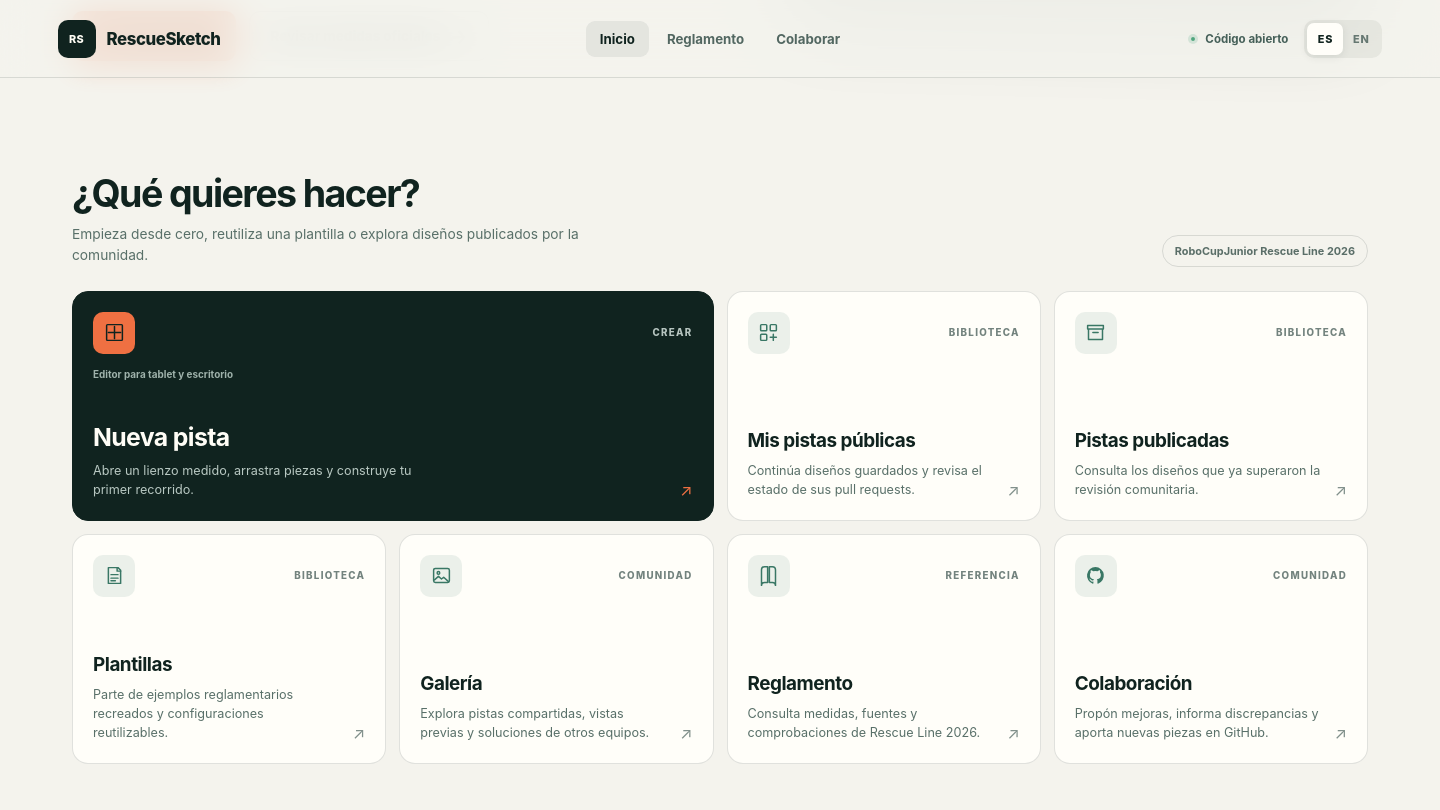
Test case: RescueSketchApp › routes from the Spanish dashboard to a new measured editor
This screenshot has width=1440, height=810.
(page scrolled)
Click the link with aria-label "Abrir Nueva pista": coordinates (114, 333) [72,291,714,521]
(page scrolled)
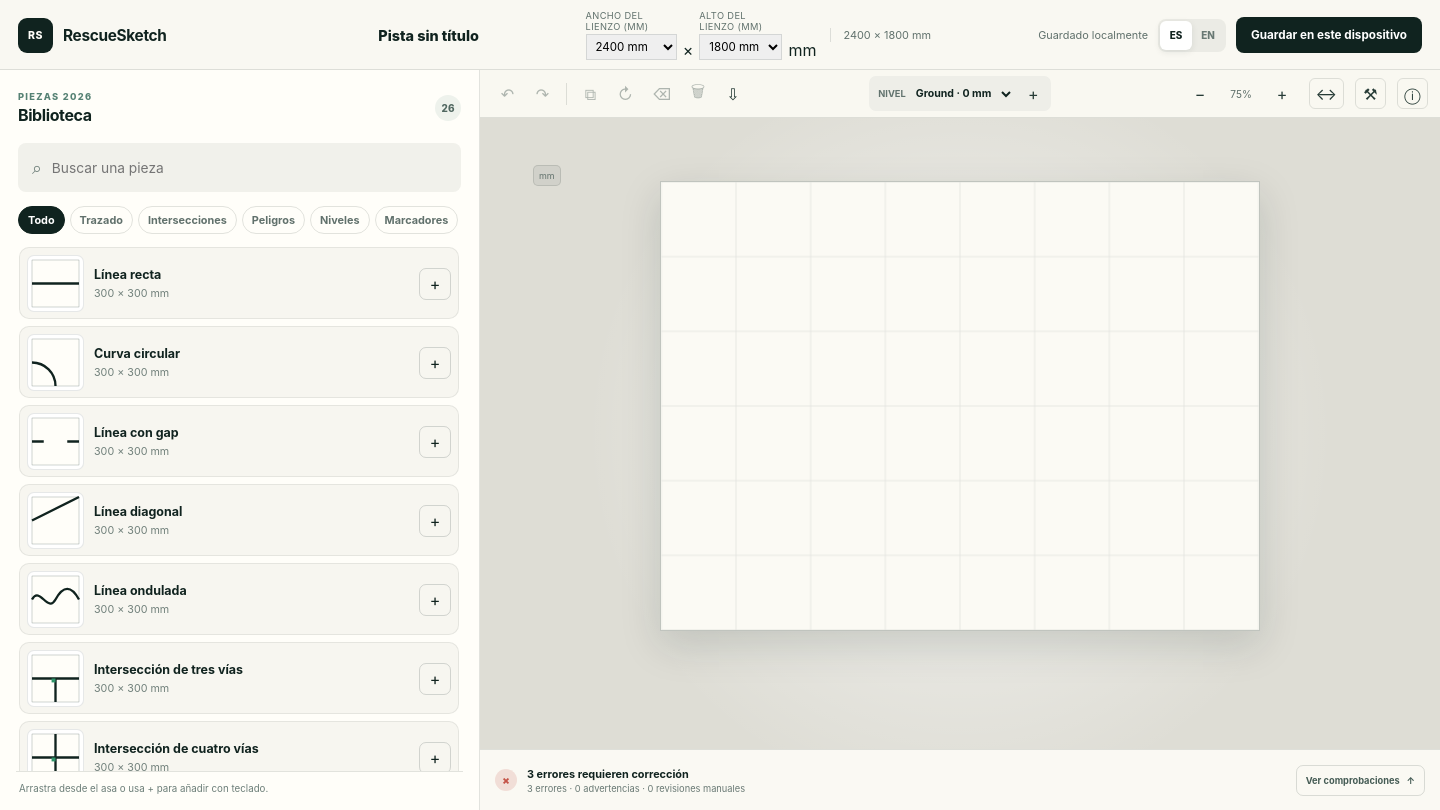
Expected: the text "2400 × 1800 mm" is shown, [830,28,931,42]
